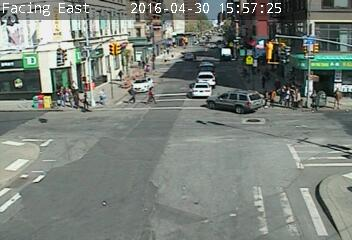neg: (172, 151, 196, 183), (221, 154, 245, 186), (145, 198, 169, 230), (215, 213, 232, 236), (284, 160, 300, 182), (117, 186, 133, 207), (233, 95, 247, 113), (253, 161, 267, 179), (47, 188, 60, 207), (283, 212, 296, 230), (195, 17, 207, 34), (149, 120, 161, 137), (241, 35, 253, 51), (185, 111, 197, 127), (94, 129, 105, 144), (197, 81, 208, 95), (25, 6, 36, 20), (331, 144, 342, 158), (221, 115, 232, 129), (140, 13, 150, 27), (63, 11, 73, 24), (13, 80, 23, 93), (39, 112, 49, 125), (72, 149, 82, 162), (100, 22, 110, 34), (63, 39, 72, 52), (47, 130, 56, 142), (126, 132, 135, 144), (185, 89, 194, 101), (256, 123, 265, 135), (81, 13, 89, 24), (184, 58, 192, 68), (97, 41, 104, 50), (118, 44, 124, 51), (205, 61, 210, 68), (216, 44, 221, 51), (25, 61, 30, 67)
pos: (273, 75, 304, 117), (63, 78, 84, 106), (323, 83, 343, 110), (50, 85, 69, 110), (124, 83, 142, 107), (144, 85, 159, 105), (307, 89, 321, 107), (62, 88, 75, 105), (255, 73, 268, 90), (95, 88, 107, 105), (116, 68, 124, 78), (166, 47, 171, 54)
